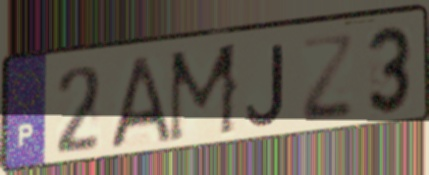2: (54, 63, 105, 159)
3: (364, 22, 415, 118)
A: (108, 53, 175, 153)
J: (244, 41, 287, 128)
M: (165, 40, 241, 148)
Z: (299, 32, 356, 126)
